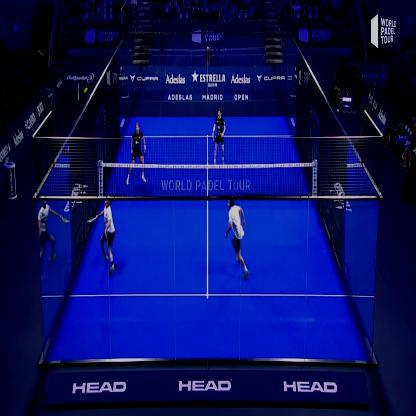ball: (78, 83, 91, 102)
